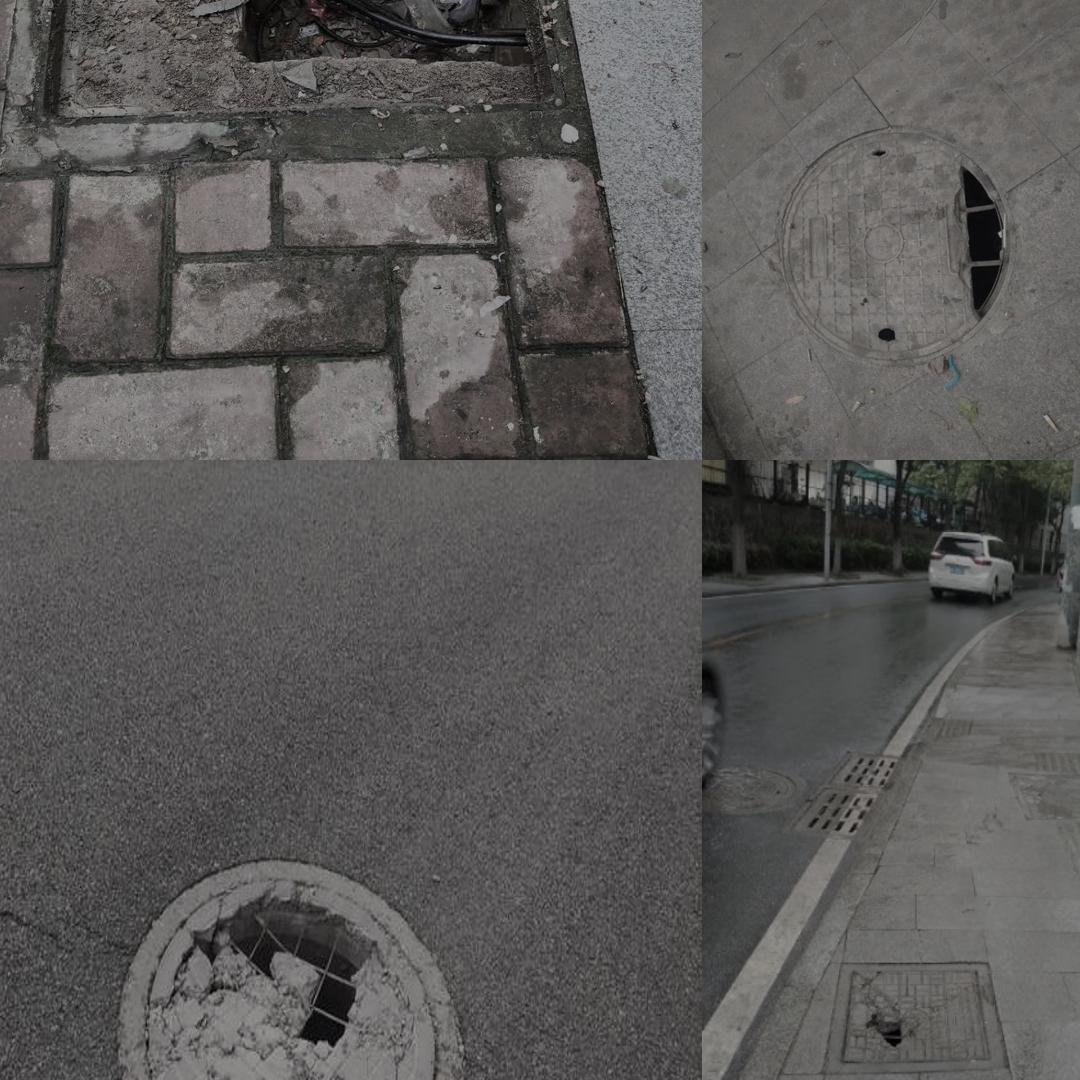broke: (112, 850, 470, 1080), (768, 113, 1026, 375), (29, 0, 576, 122), (819, 961, 1013, 1070)
